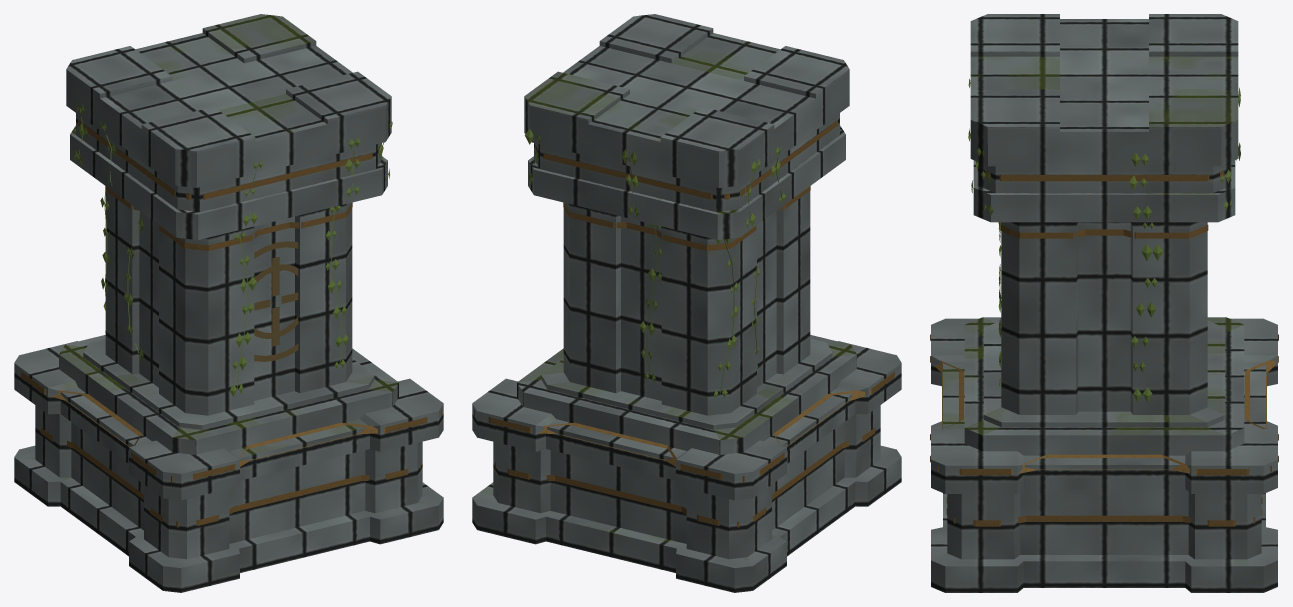
Rendered from SmallPillar.fbx.
The picture shows the model from 3 angles, left to right: view 1: azimuth 30°, elevation 25°; view 2: azimuth 150°, elevation 25°; view 3: azimuth 270°, elevation 25°; orthographic projection. The views are drawn at different scales.
Visible parts, largest first — view 1: SmallPillar.003; view 2: SmallPillar.003; view 3: SmallPillar.003.
Boxes of the visible parts, x1,y1,x2,y2 form: SmallPillar.003: (14, 14, 443, 592); SmallPillar.003: (472, 14, 901, 592); SmallPillar.003: (930, 14, 1278, 592).
Size of the model in its own units: 1.57 by 2.24 by 1.57.
Materials: 4 (3 with a texture image).
